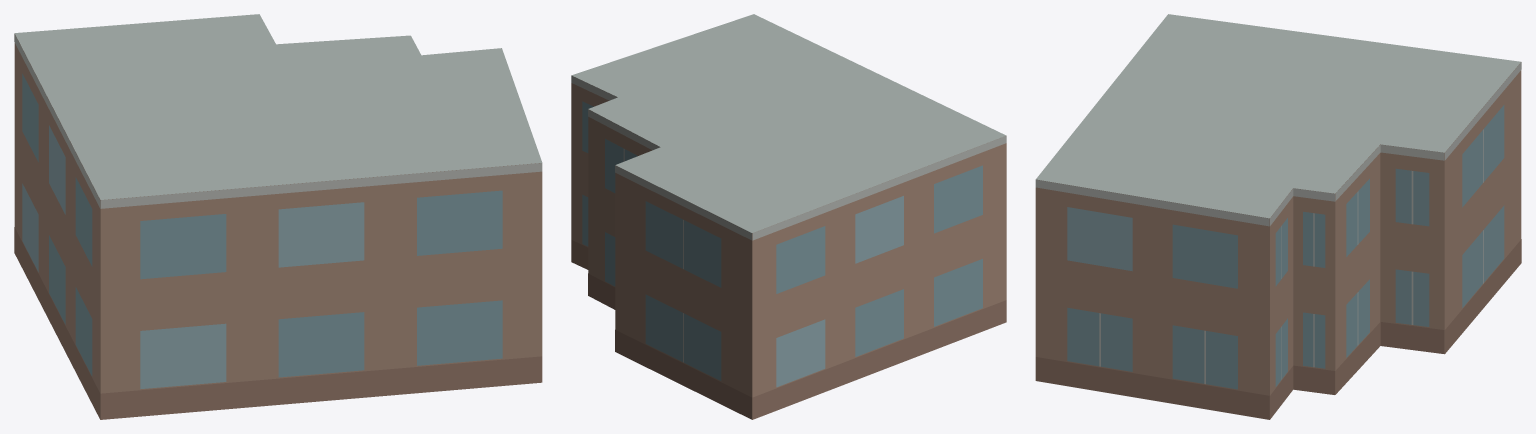
Rendered from survey-upis-32655127.glb.
3 views of the same model, side by side, from view 1: azimuth 30°, elevation 25°; view 2: azimuth 150°, elevation 25°; view 3: azimuth 270°, elevation 25° (orthographic). The views are drawn at different scales.
Parts seen in each view (by area): view 1: survey-upis-32655127.tmp; view 2: survey-upis-32655127.tmp; view 3: survey-upis-32655127.tmp.
Part boxes in pixels (bbox=[...]): survey-upis-32655127.tmp: bbox=[14, 14, 542, 419]; survey-upis-32655127.tmp: bbox=[571, 14, 1006, 419]; survey-upis-32655127.tmp: bbox=[1035, 14, 1521, 419].
Bounding box in the file's own units: 13.28 × 6.1 × 13.34.
